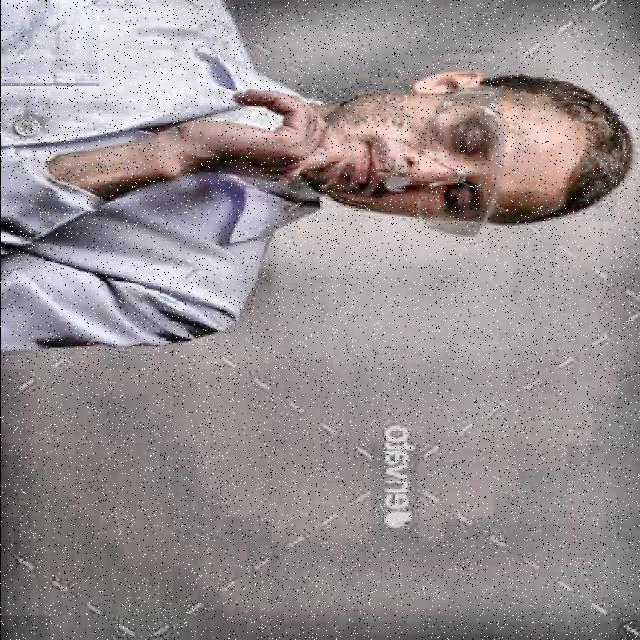Goggles: (425, 77, 497, 240)
